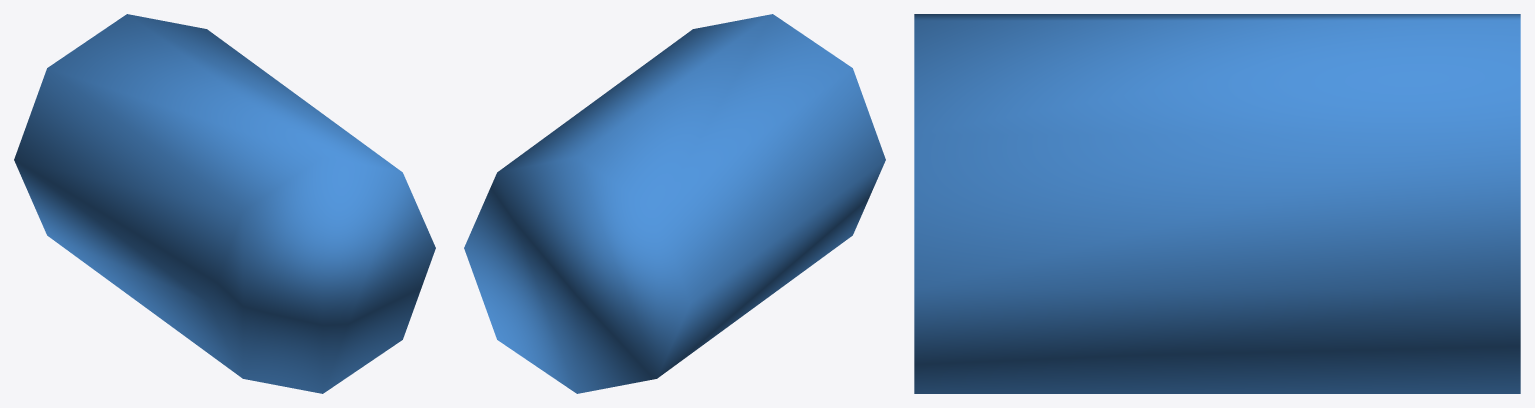
File: expected.gltf
3 views of the same model, side by side, from view 1: azimuth 30°, elevation 25°; view 2: azimuth 150°, elevation 25°; view 3: azimuth 270°, elevation 25° (orthographic). The views are drawn at different scales.
Size of the model in its own units: 20 by 20 by 30.
